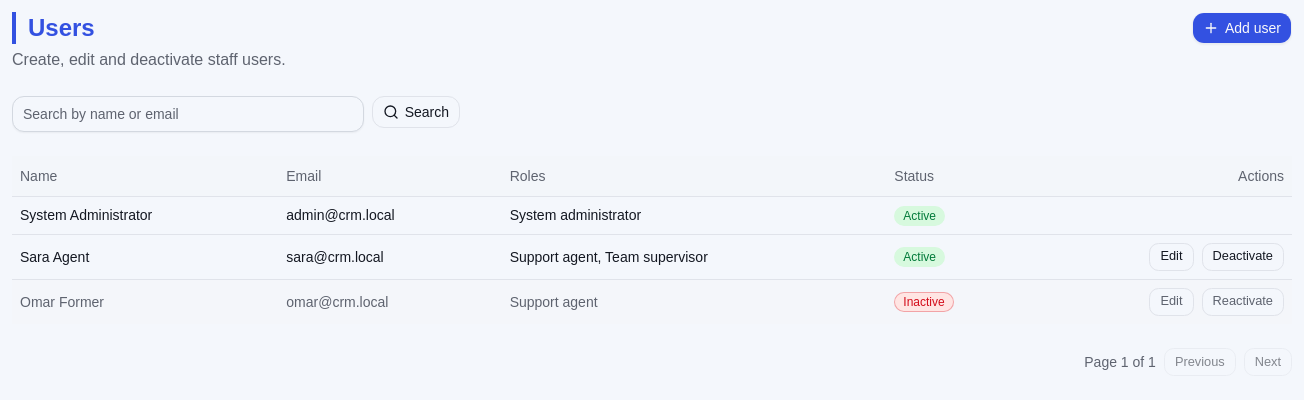
Scenario: UsersPage › searches by name or email and starts again at page 1
Expected: the row "Sara Agent" is shown, [12,234,1292,279]
Type " sara " into the search field labelled "Search by name or email".
click(188, 114); type(" sara ")  # box [12,96,364,132]
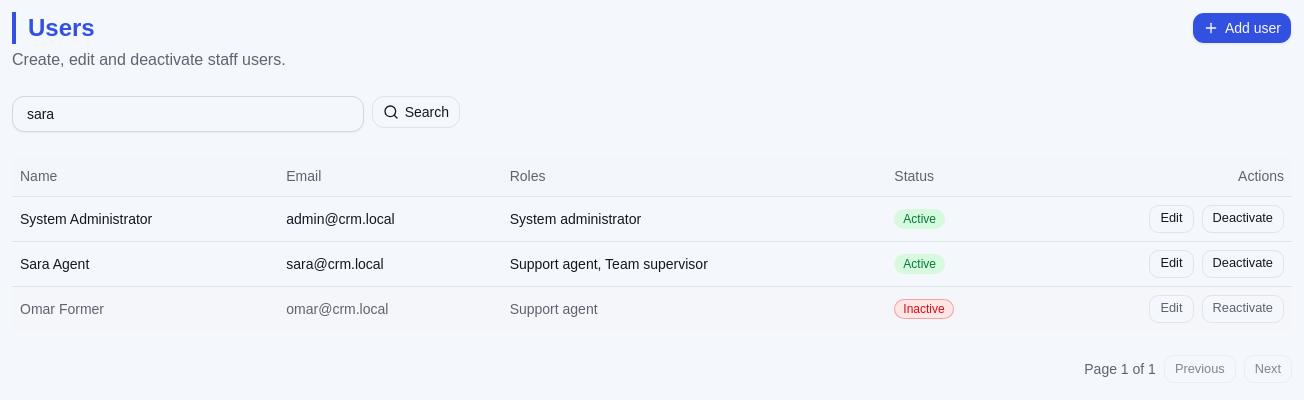
Click the button "Search".
click(416, 112)  # box [372,96,460,128]
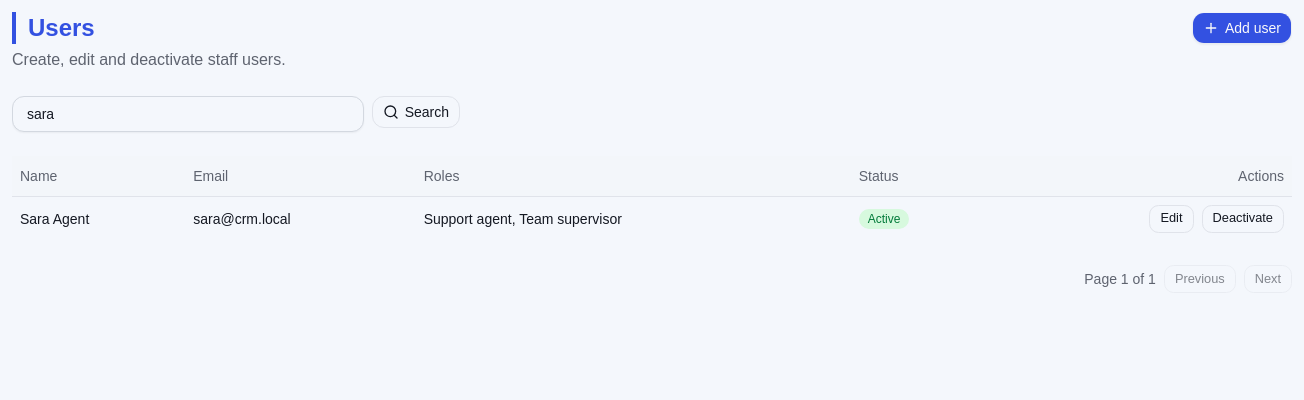
Result: the cell "Omar Former" is gone
